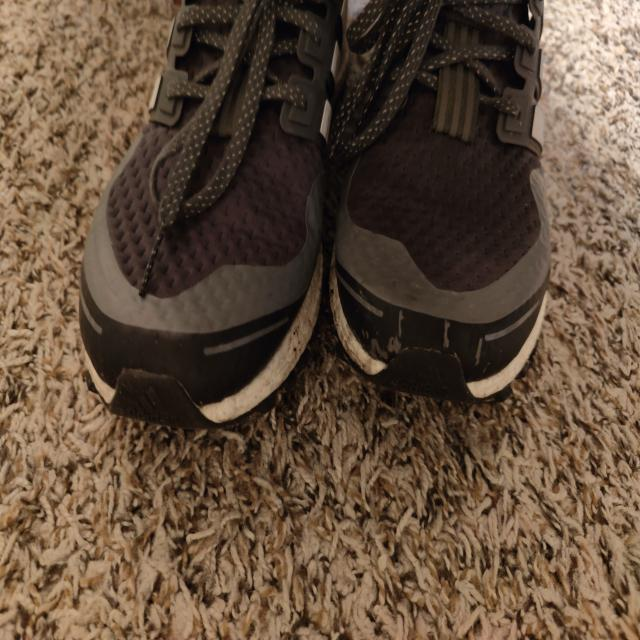black shoes: (95, 0, 542, 425)
